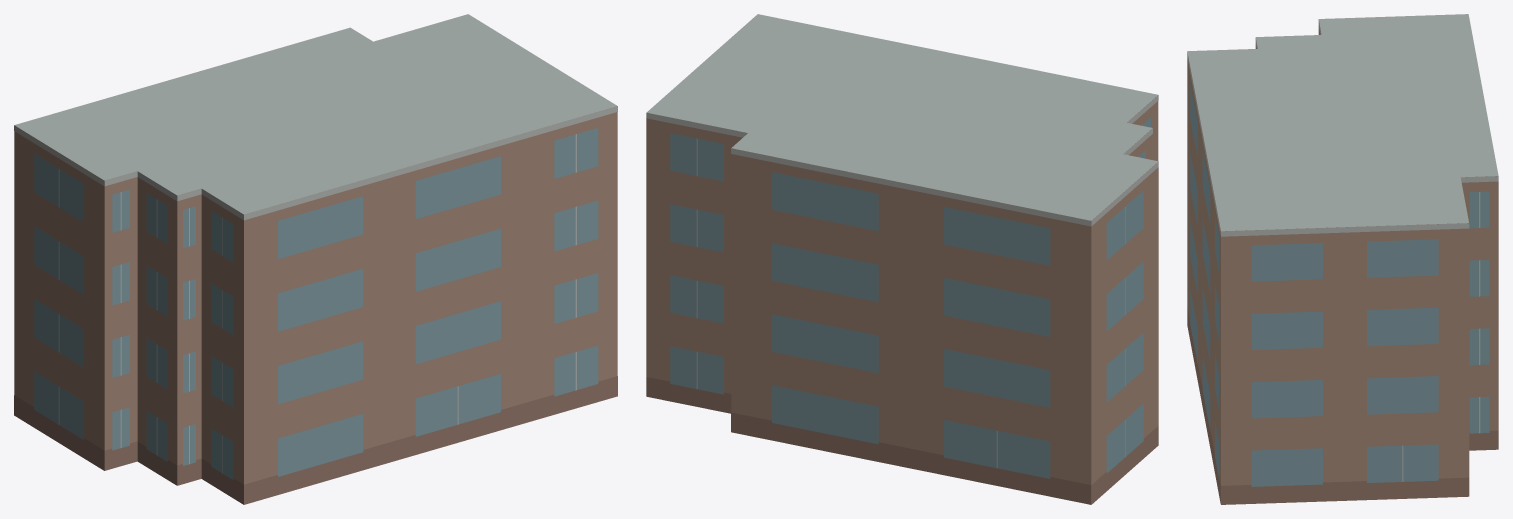
The model's file is residential-df3dddfd-2e94-4597-9484-75ab6f28178a.glb.
3 renders of one model, left to right at view 1: azimuth 30°, elevation 25°; view 2: azimuth 150°, elevation 25°; view 3: azimuth 270°, elevation 25°, orthographic. The views are drawn at different scales.
Parts seen in each view (by area): view 1: residential-df3dddfd-2e94-4597-9484-75ab6f28178a.tmp; view 2: residential-df3dddfd-2e94-4597-9484-75ab6f28178a.tmp; view 3: residential-df3dddfd-2e94-4597-9484-75ab6f28178a.tmp.
Part boxes in pixels (bbox=[...]): residential-df3dddfd-2e94-4597-9484-75ab6f28178a.tmp: bbox=[14, 14, 617, 504]; residential-df3dddfd-2e94-4597-9484-75ab6f28178a.tmp: bbox=[646, 14, 1158, 504]; residential-df3dddfd-2e94-4597-9484-75ab6f28178a.tmp: bbox=[1187, 14, 1498, 504].
Bounding box in the file's own units: 20.78 × 12.2 × 12.59.
